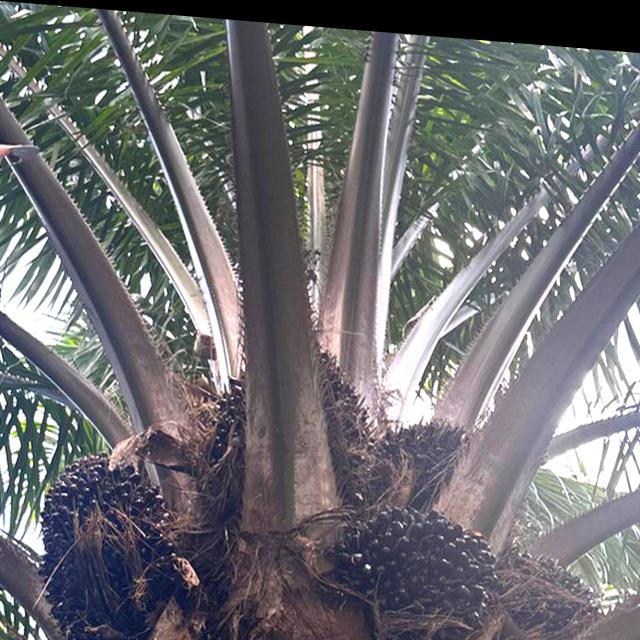unripe: (197, 328, 387, 522), (29, 444, 173, 640), (335, 489, 506, 640), (357, 396, 472, 509), (496, 531, 603, 639)
